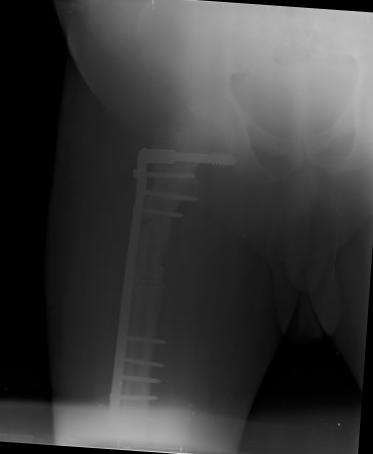fractured: (133, 213, 173, 275)
